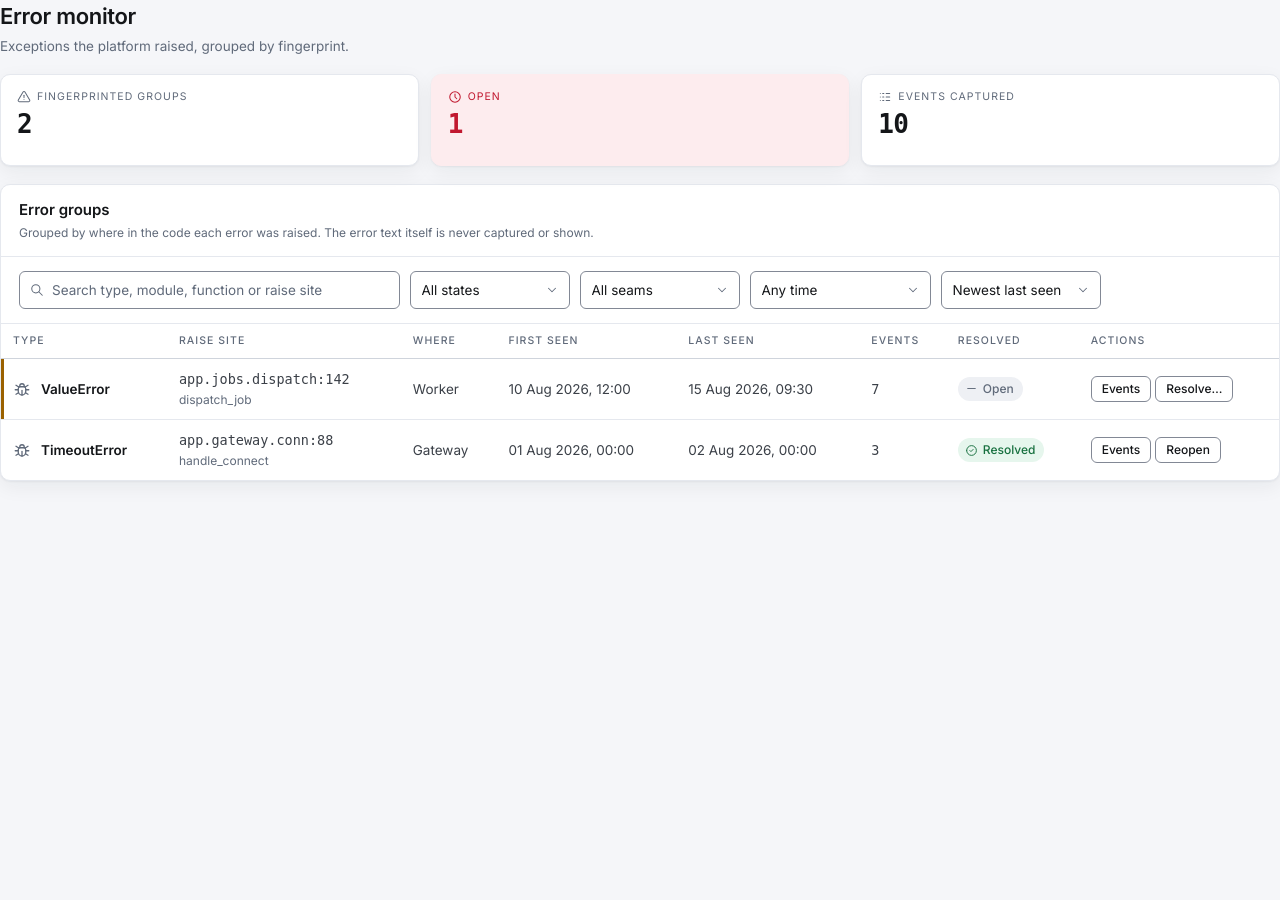
Scenario: ErrorMonitorPage resolve confirmation › writes nothing on the first click and names the group in the confirmation
Click the button "Resolve…" at (1194, 389), box [1155,376,1233,402]
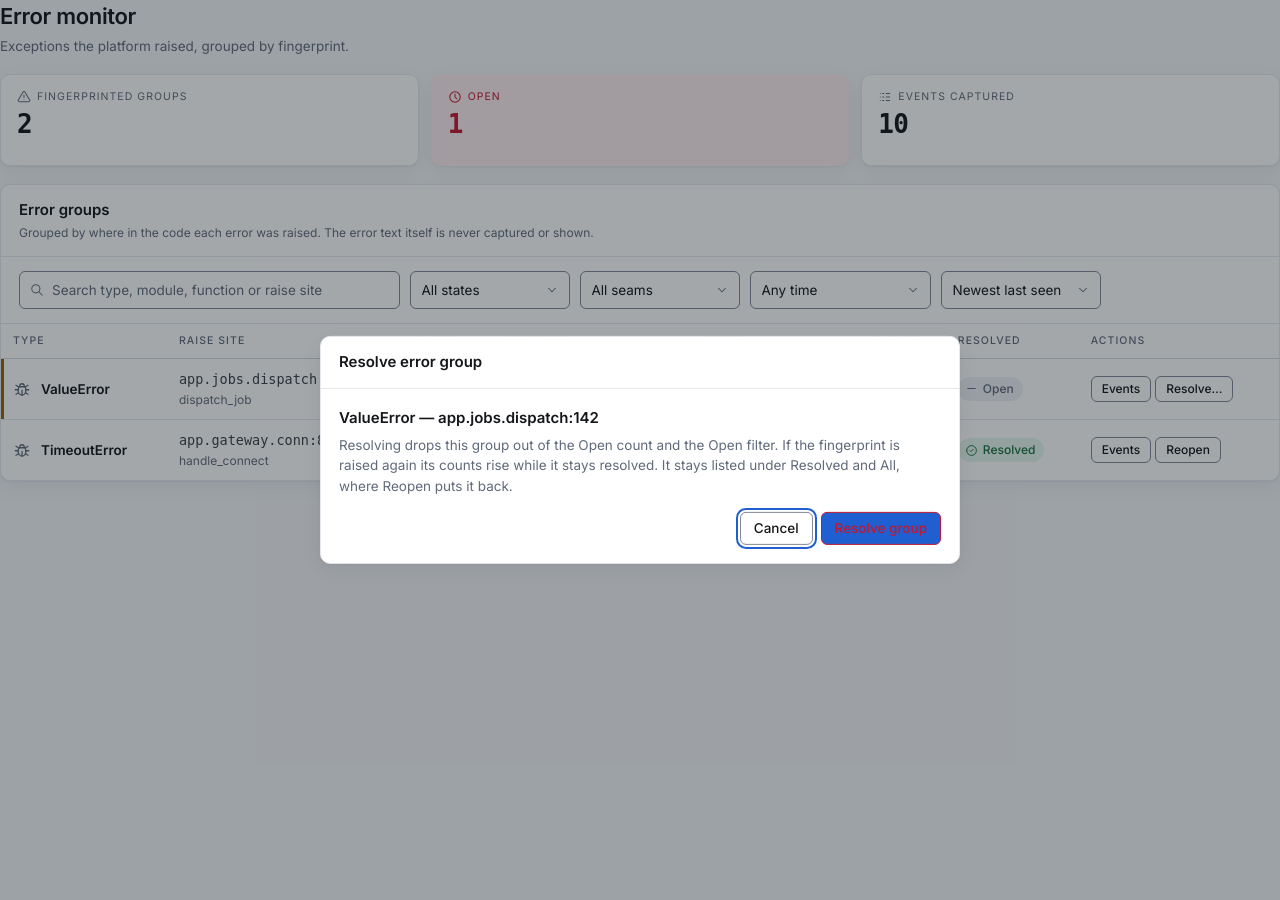
Expected: the dialog does not show "no unresolve route", [320,336,960,564]
Expected: the dialog shows "ValueError — app.jobs.dispatch:142", [339,407,599,426]
Expected: the dialog shows "reopen", [339,437,900,493]
